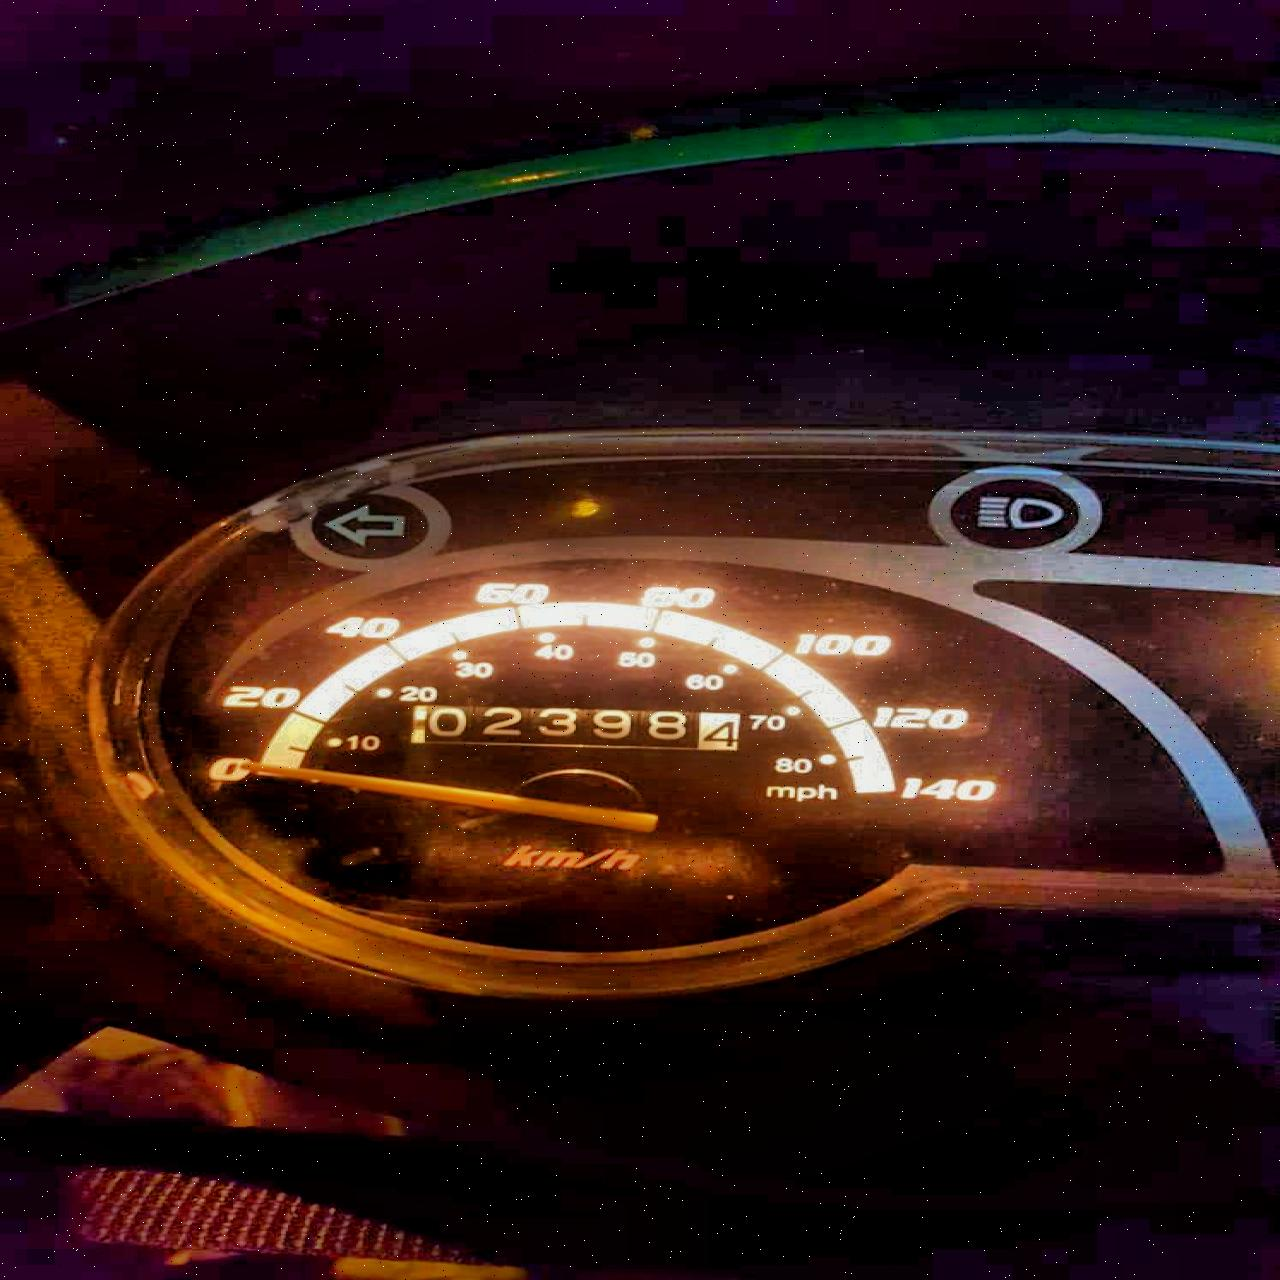0: (427, 706, 468, 740)
2: (476, 704, 523, 740)
3: (535, 706, 576, 737)
4: (699, 710, 740, 749)
8: (645, 708, 689, 741)
9: (587, 707, 632, 740)
odometer: (403, 702, 742, 753)
